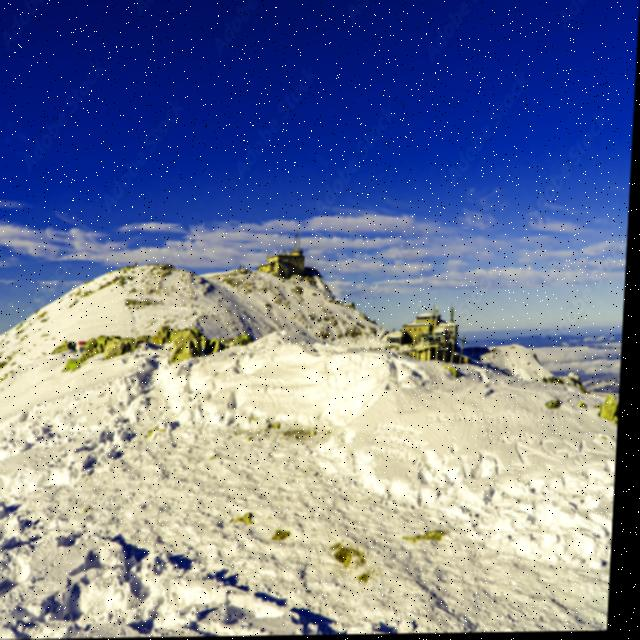Kasprowy Wierch: (133, 134, 409, 409)
